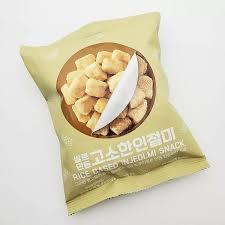snack: (20, 10, 210, 217)
